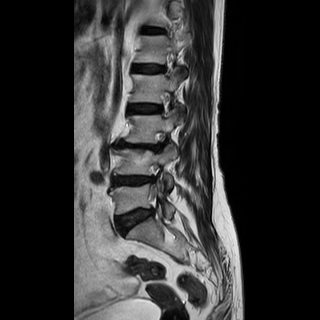RFS0: (151, 88, 178, 122), (155, 49, 180, 81)
RFS2: (143, 125, 173, 157)
